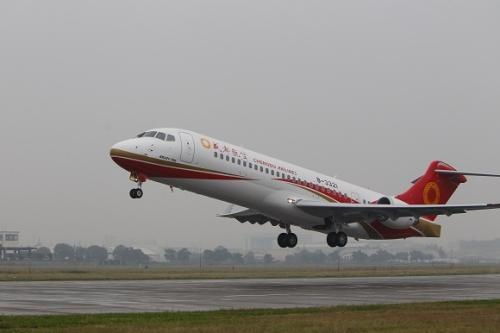airplane: (111, 124, 500, 252)
